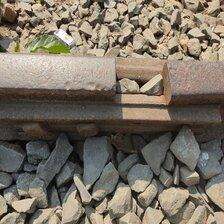railway-gap: (90, 29, 190, 127)
